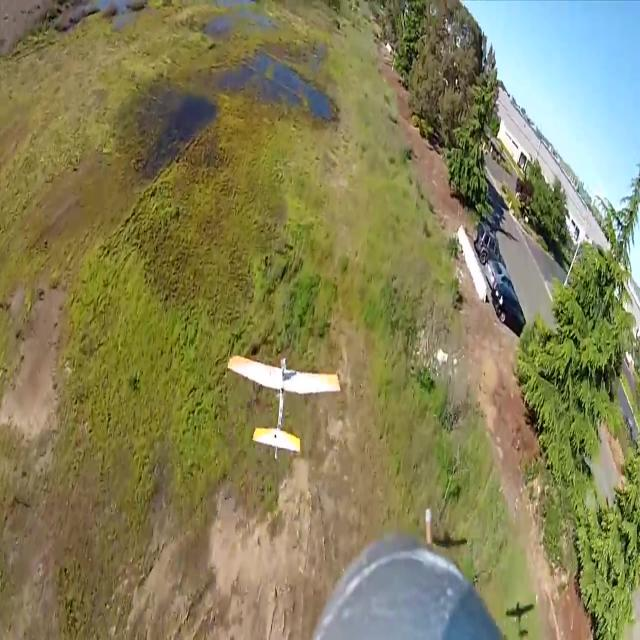iha: (256, 385, 310, 429)
